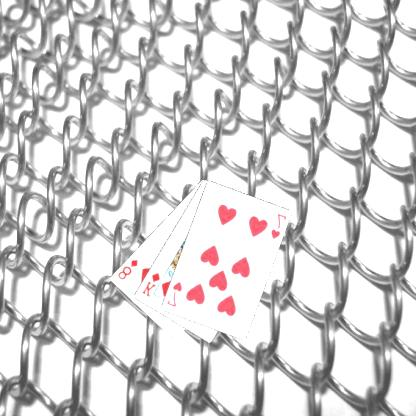7H: (166, 278, 185, 308), (270, 211, 289, 240)
8D: (116, 256, 141, 280)
KD: (140, 270, 163, 298)
